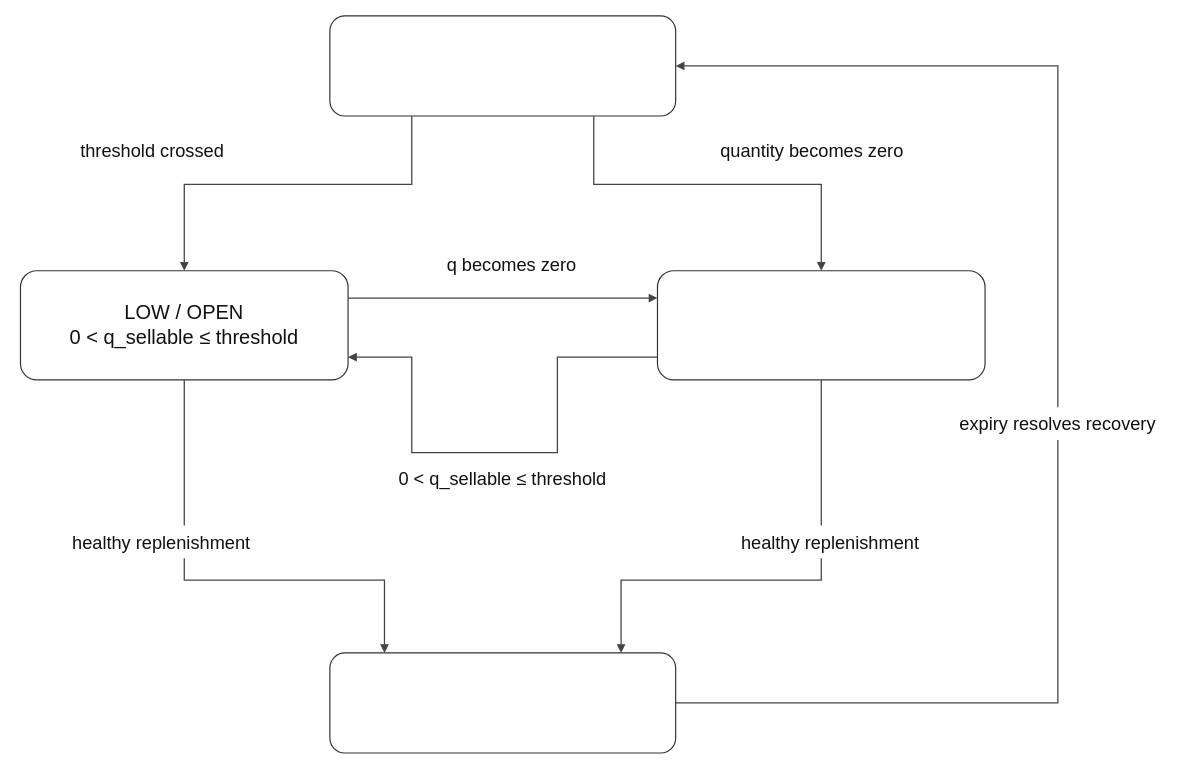
Some shapes in this 1200 by 770 pixel diagram are drawn without their labels. Here are the shapes that lost their labels. From the top down, the box of each, then its label:
(329, 15, 676, 116): Healthy stock q_sellable > threshold
(656, 270, 985, 380): OUT / OPEN q_sellable = 0
(329, 652, 676, 753): RESTOCKED / OPEN 24-hour visibility
